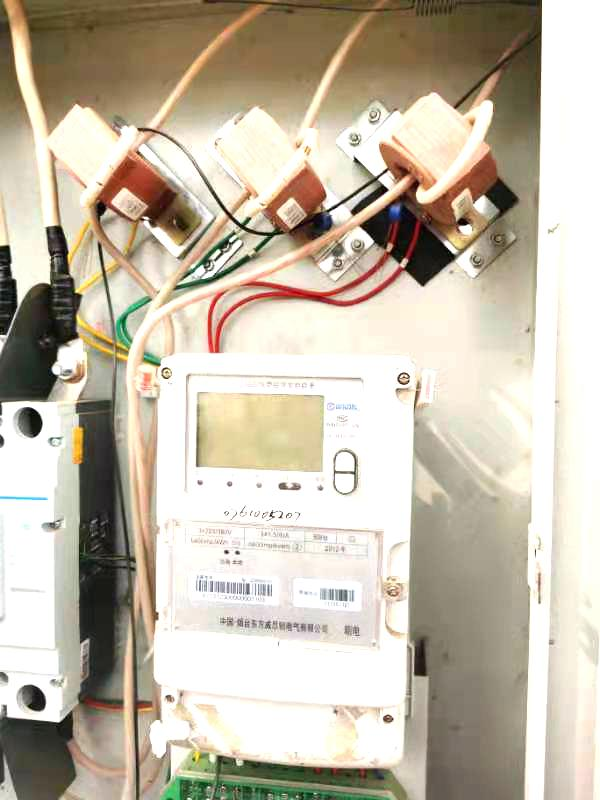digital: (155, 358, 407, 708)
